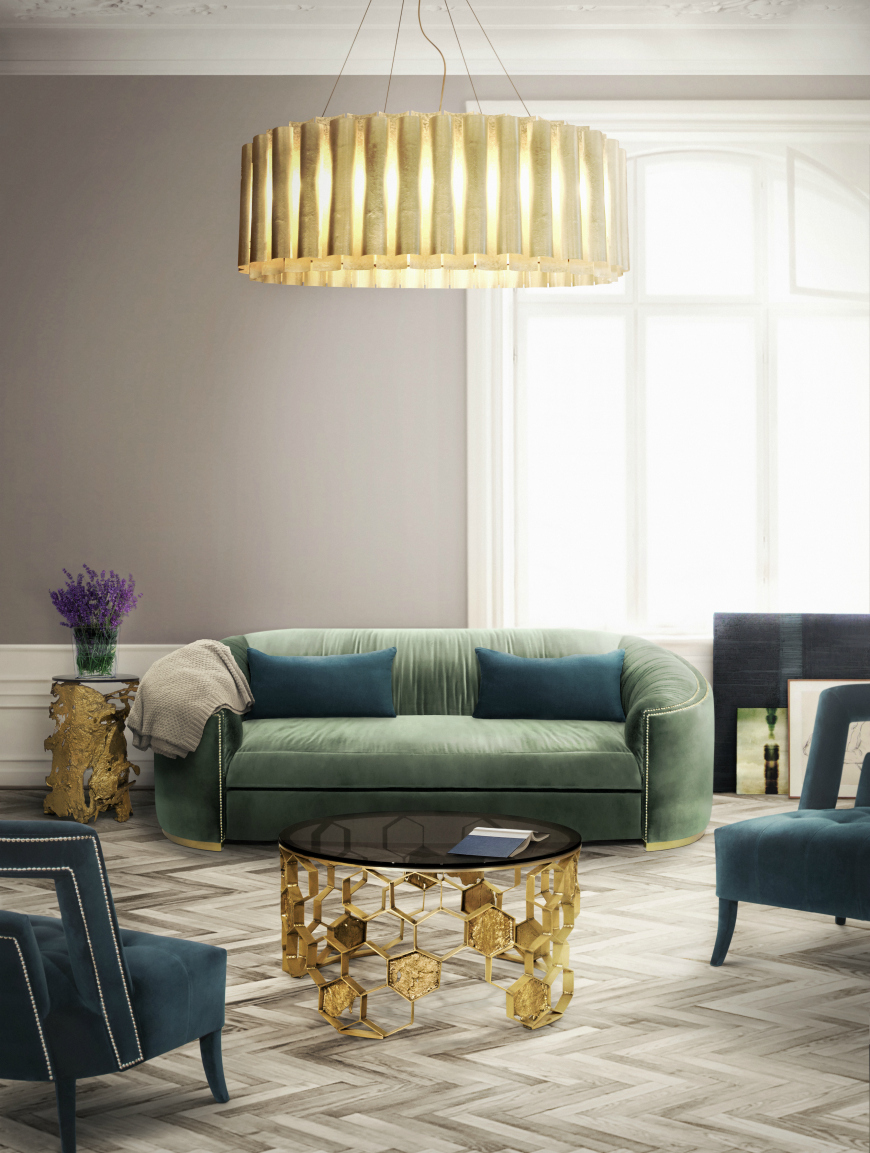hijau: (264, 724, 627, 823), (622, 642, 713, 845)
hitam: (709, 816, 870, 917), (467, 651, 628, 718), (241, 653, 402, 720)
